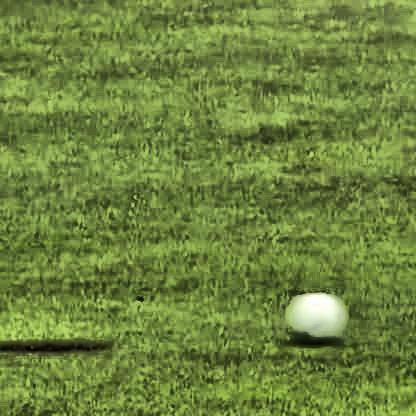golfball: (286, 295, 342, 343)
